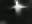person: (9, 1, 29, 18)
